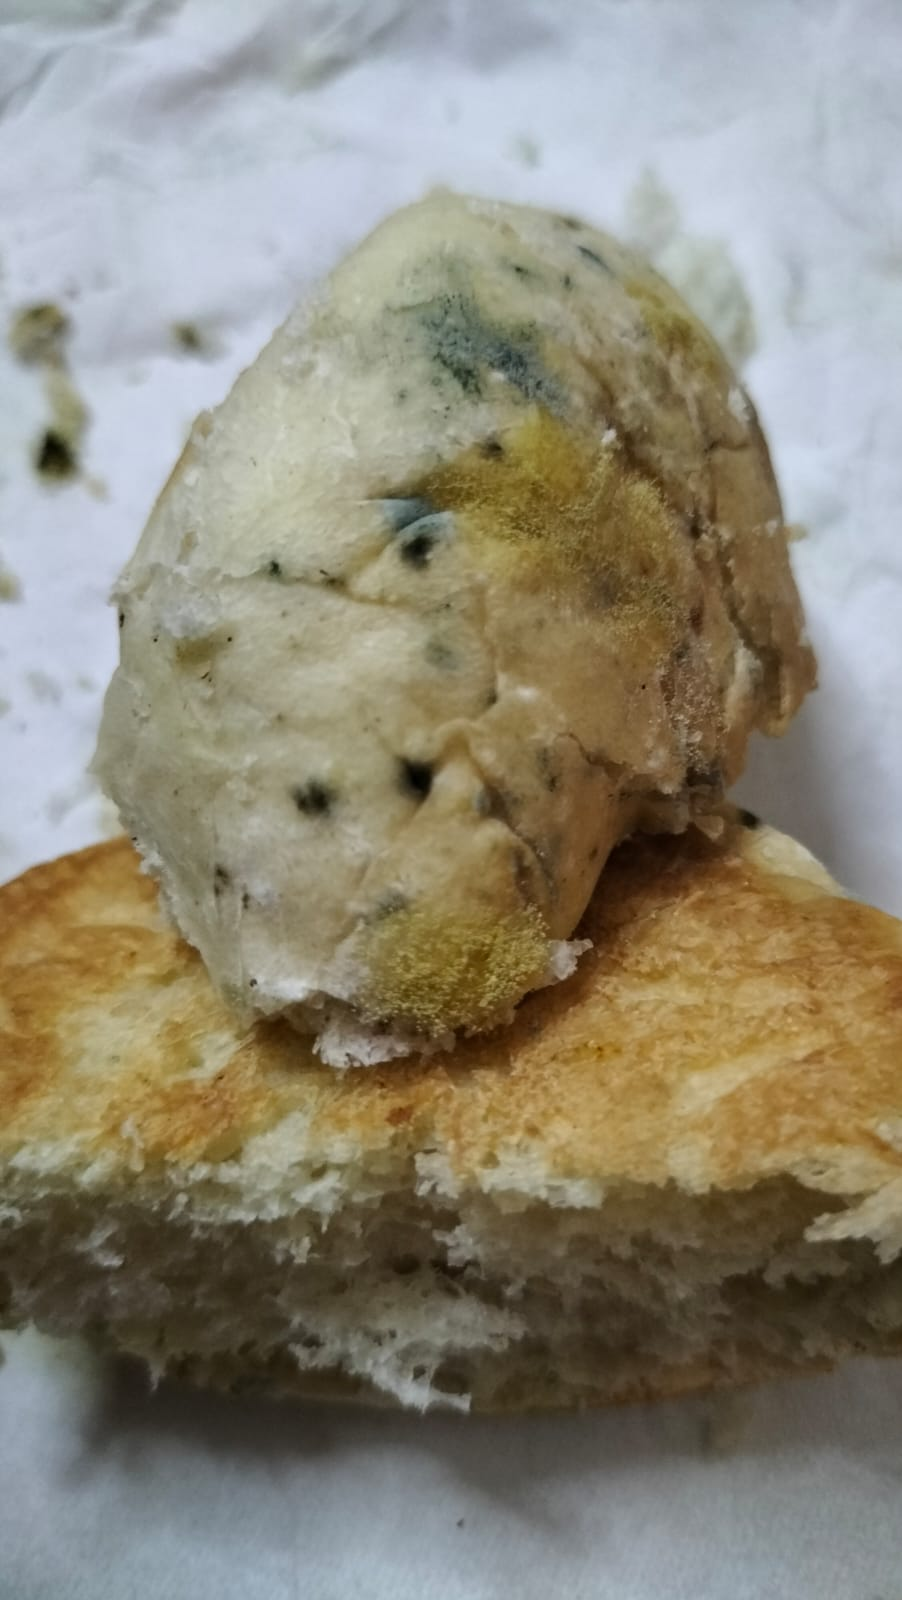mold_bread: (350, 886, 581, 1027), (396, 297, 550, 423), (368, 475, 459, 579), (382, 741, 445, 812), (200, 855, 261, 922), (290, 771, 344, 826), (417, 625, 469, 680), (474, 432, 508, 466), (503, 253, 538, 286), (259, 549, 291, 585)
